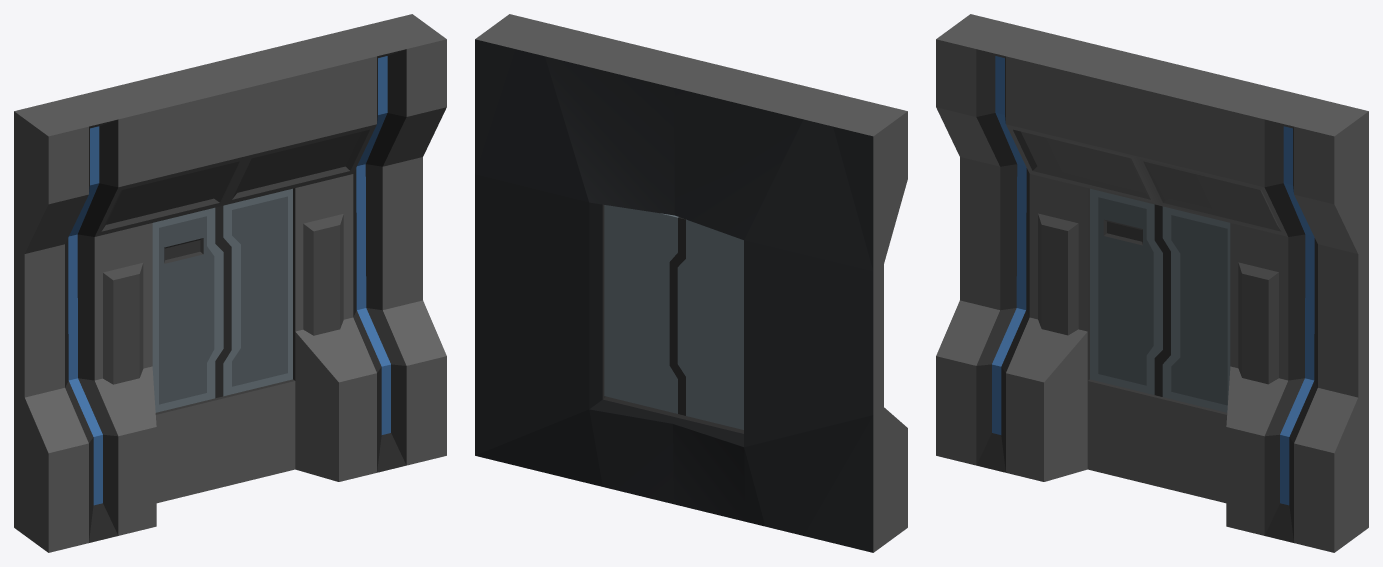
The model's file is SM_Bld_Lift_Wall_01.fbx.
The picture shows the model from 3 angles, left to right: view 1: azimuth 30°, elevation 25°; view 2: azimuth 150°, elevation 25°; view 3: azimuth 330°, elevation 25°; orthographic projection.
Parts seen in each view (by area): view 1: SM_Bld_Lift_Wall_01, SM_Bld_Lift_Wall_Door_01, SM_Bld_Lift_Wall_Door_02; view 2: SM_Bld_Lift_Wall_01, SM_Bld_Lift_Wall_Door_02, SM_Bld_Lift_Wall_Door_01; view 3: SM_Bld_Lift_Wall_01, SM_Bld_Lift_Wall_Door_01, SM_Bld_Lift_Wall_Door_02.
Boxes of the visible parts, box(x1,y1,x2,y2) form: SM_Bld_Lift_Wall_01: box(14, 14, 446, 552); SM_Bld_Lift_Wall_Door_01: box(152, 207, 227, 412); SM_Bld_Lift_Wall_Door_02: box(219, 188, 292, 397); SM_Bld_Lift_Wall_01: box(475, 14, 907, 552); SM_Bld_Lift_Wall_Door_02: box(604, 205, 682, 414); SM_Bld_Lift_Wall_Door_01: box(674, 218, 743, 429); SM_Bld_Lift_Wall_01: box(936, 14, 1368, 552); SM_Bld_Lift_Wall_Door_01: box(1090, 188, 1167, 395); SM_Bld_Lift_Wall_Door_02: box(1159, 205, 1230, 412).
Bounding box in the file's own units: 500 × 500 × 91.48.
Materials: 1 (1 with a texture image).
